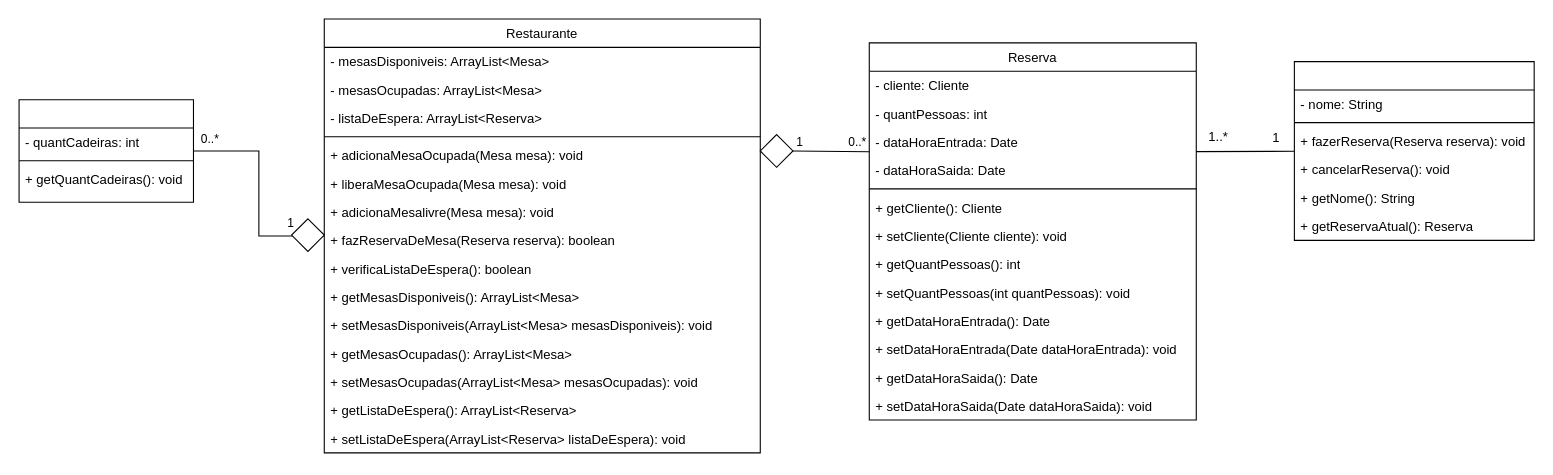
Image size: 1553x475. Some labels were removed from this diagram. Here are the shapes that lost their labels. From the top down, the box of each, then its label:
(18, 99, 193, 202): Mesa
(1293, 60, 1534, 240): Cliente
